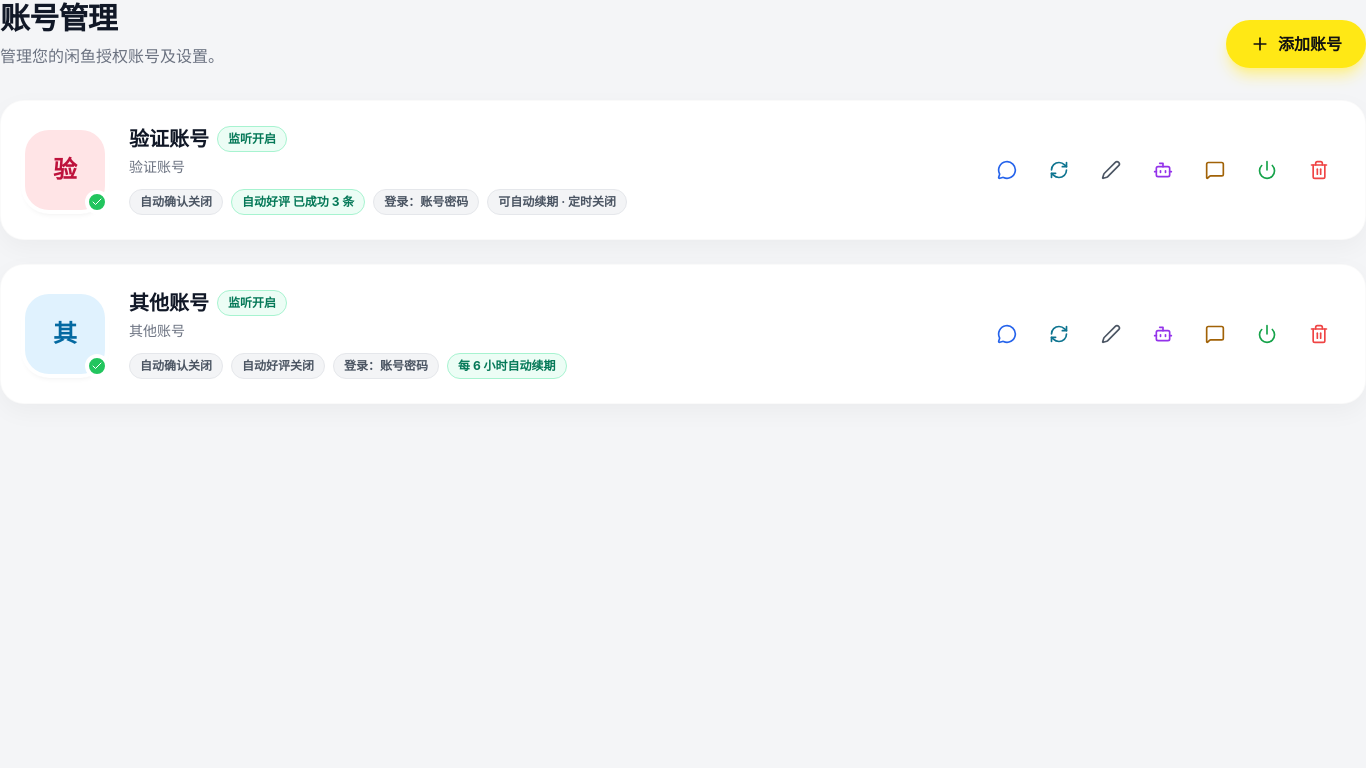
AccountList session verification UI › confirms the persisted account before allowing the current-device tab to close
Check: the text "可自动续期 · 定时关闭" is shown, box [487,189,627,215]
Click the button "添加账号": (1296, 44) [1226,20,1365,68]
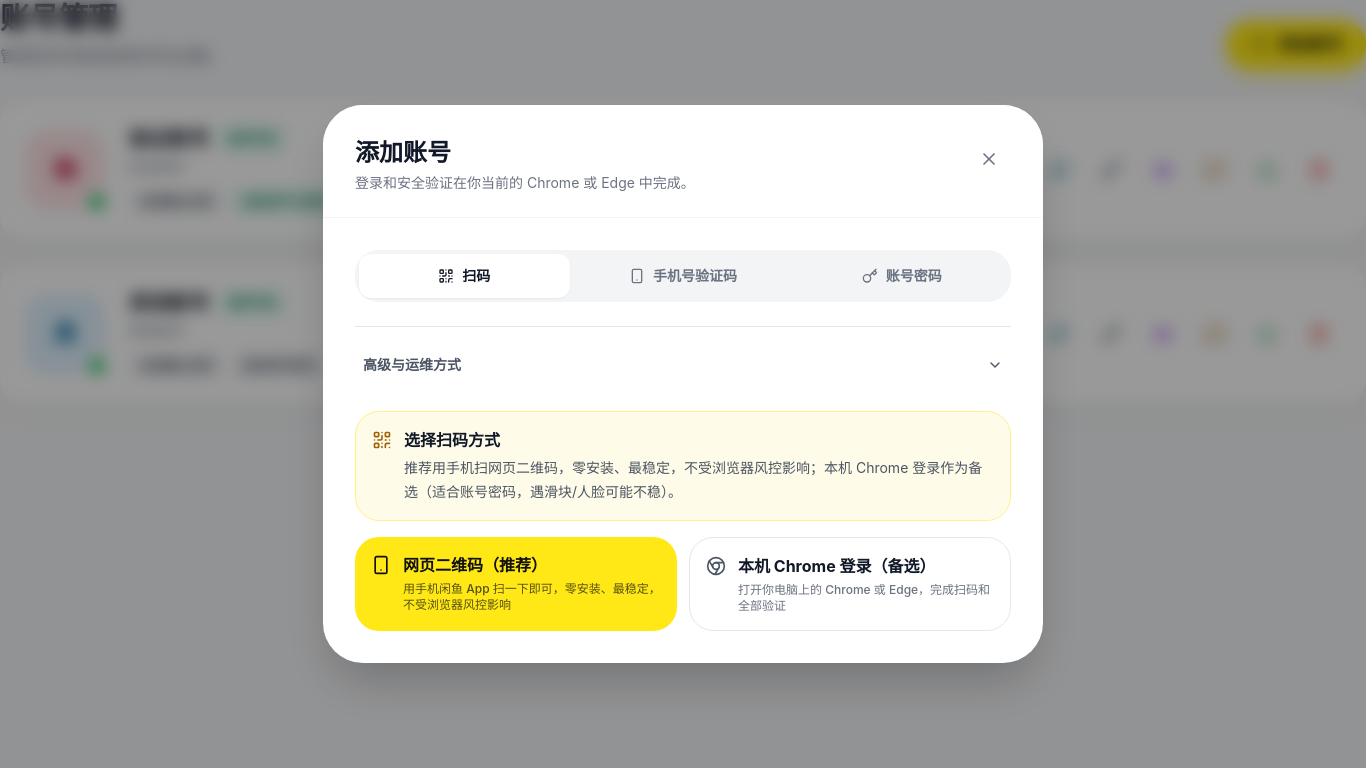
Click the button "账号密码": (902, 276) [796,254,1007,298]
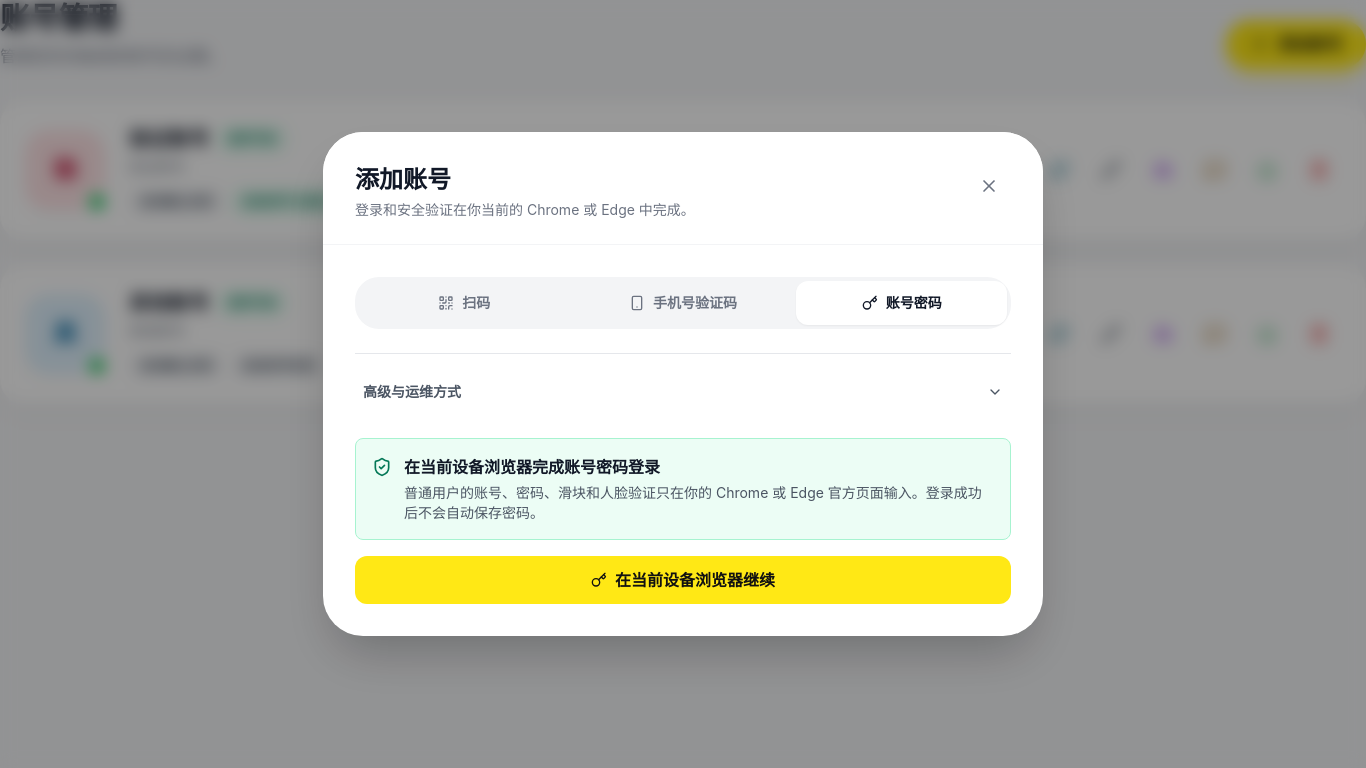
Click the button "在当前设备浏览器继续": (683, 580) [355,556,1011,604]
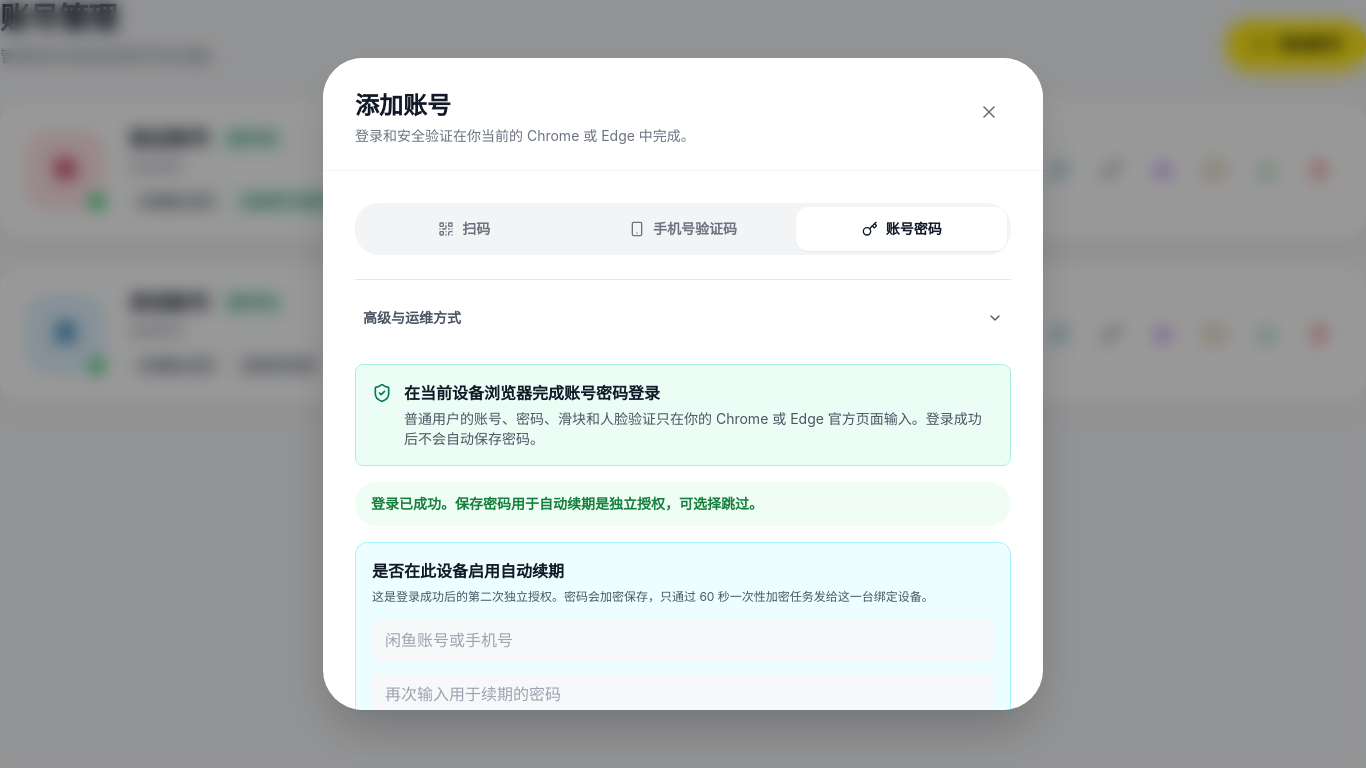
Check: the dialog "添加账号" is shown
Check: the heading "是否在此设备启用自动续期" is shown, box [372,561,564,581]
